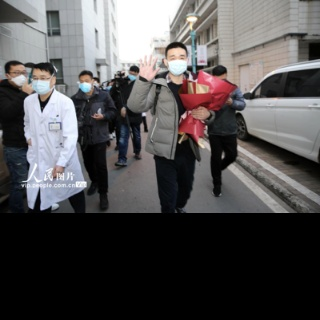with_mask: (166, 53, 188, 77), (31, 73, 52, 94), (10, 69, 28, 86), (78, 78, 93, 93), (128, 70, 137, 81)
